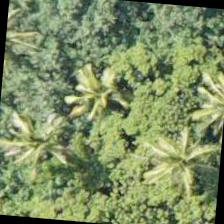Kelapa_Sawit: (52, 47, 150, 145), (130, 119, 224, 216), (0, 103, 83, 201)
